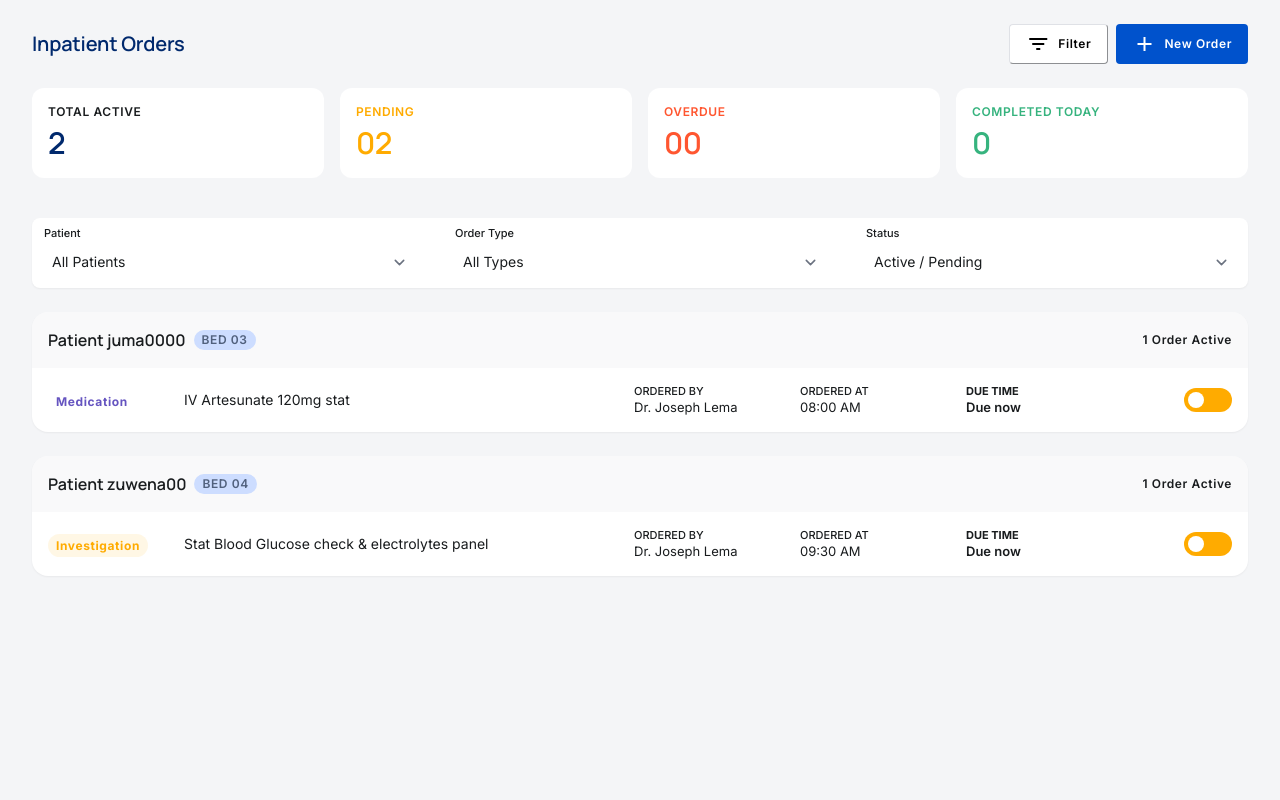
Test: InpatientOrdersPage › opens the issue order modal and successfully adds a new medication order
Check: the text "IV Artesunate 120mg stat" is shown, box [184, 391, 350, 408]
Click the button "New Order".
click(1182, 44)  # box [1116, 24, 1248, 64]
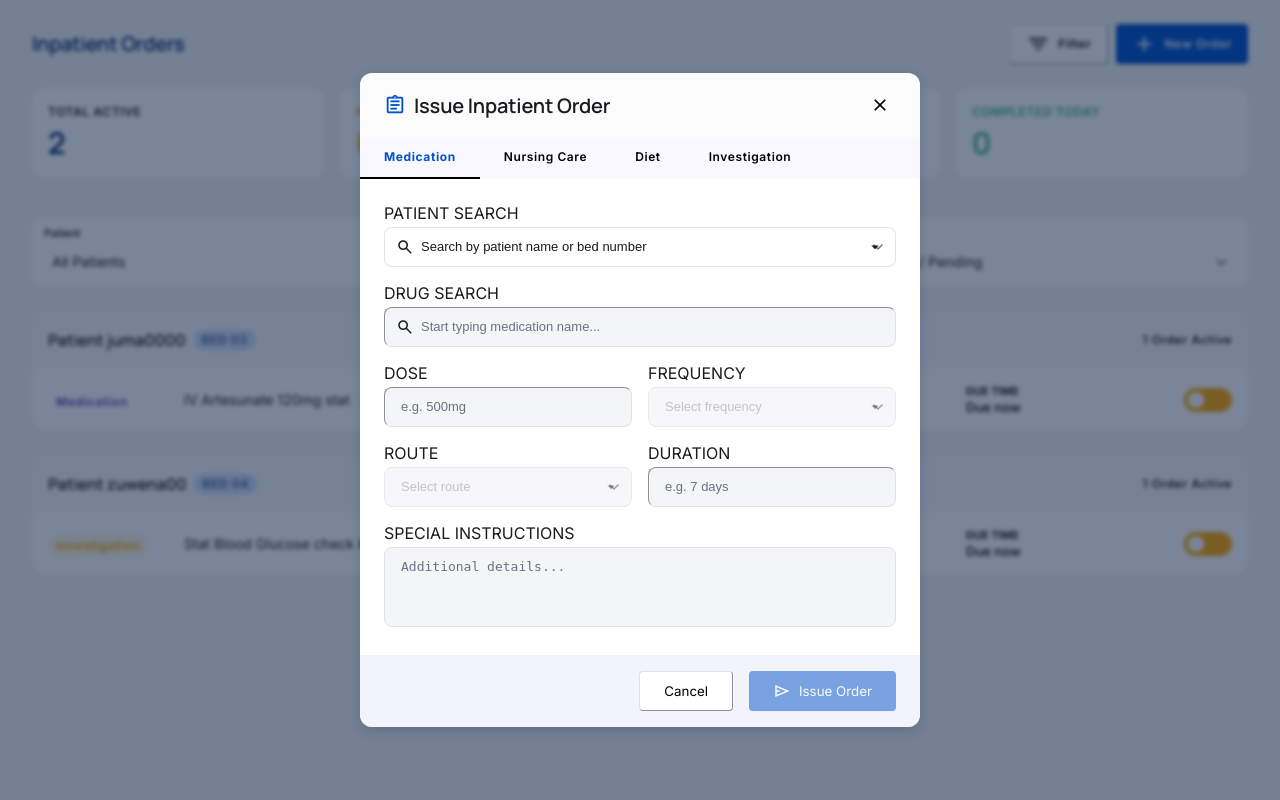
Check: the text "Issue Inpatient Order" is shown, box [414, 94, 610, 116]
Select "Patient juma0000 (Bed 03)" in the dropdown labelled "PATIENT SEARCH" at (640, 247), box [384, 227, 896, 267]
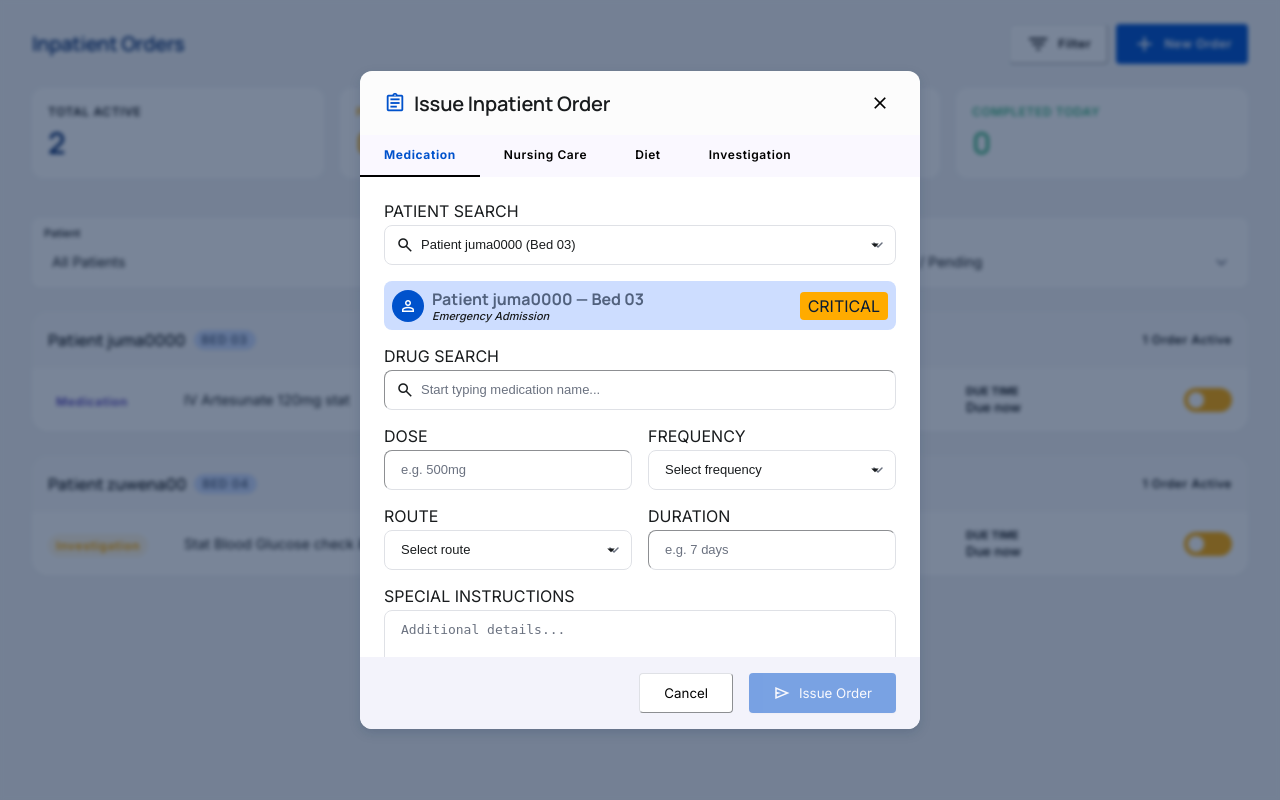
Type "Paracetamol" into the field labelled "DRUG SEARCH".
click(640, 390); type("Paracetamol")  # box [384, 370, 896, 410]
Type "500mg" into the field labelled "DOSE".
click(508, 470); type("500mg")  # box [384, 450, 632, 490]
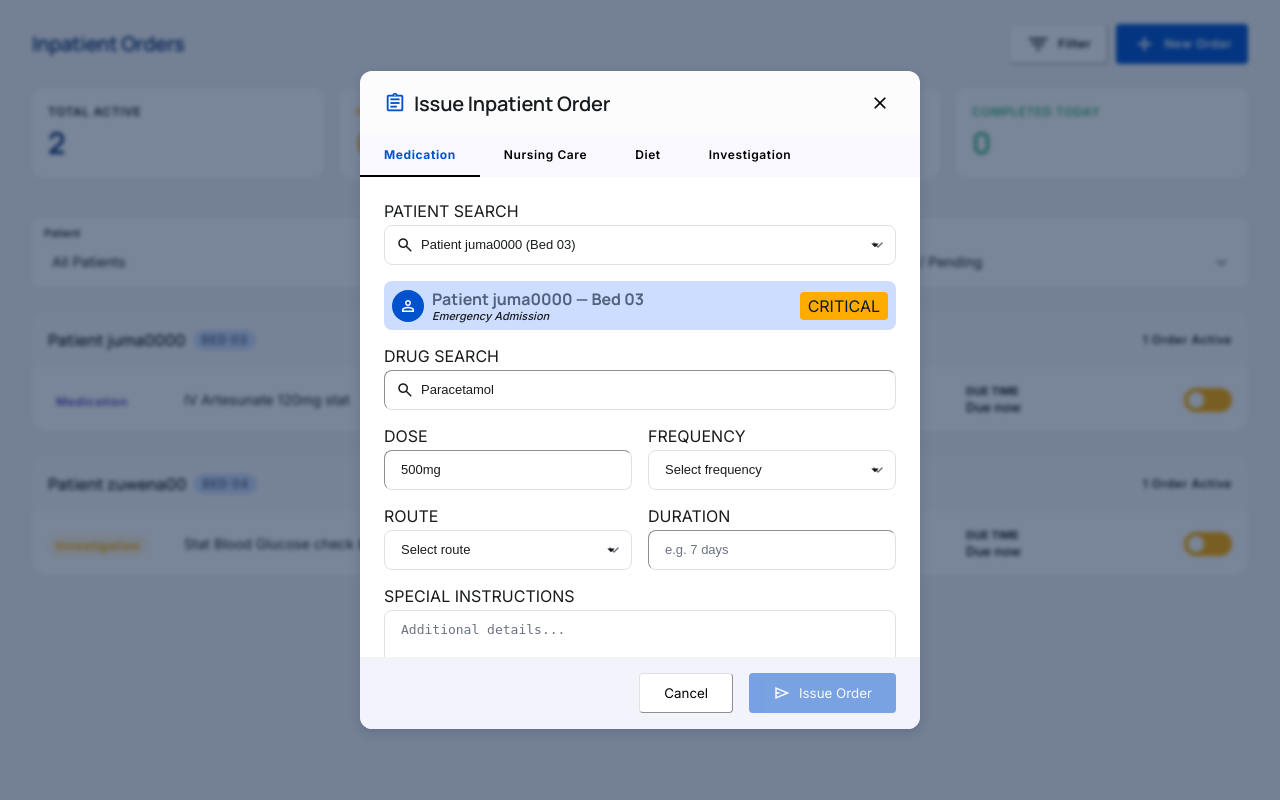
Select "Daily" in the dropdown labelled "FREQUENCY" at (772, 470), box [648, 450, 896, 490]
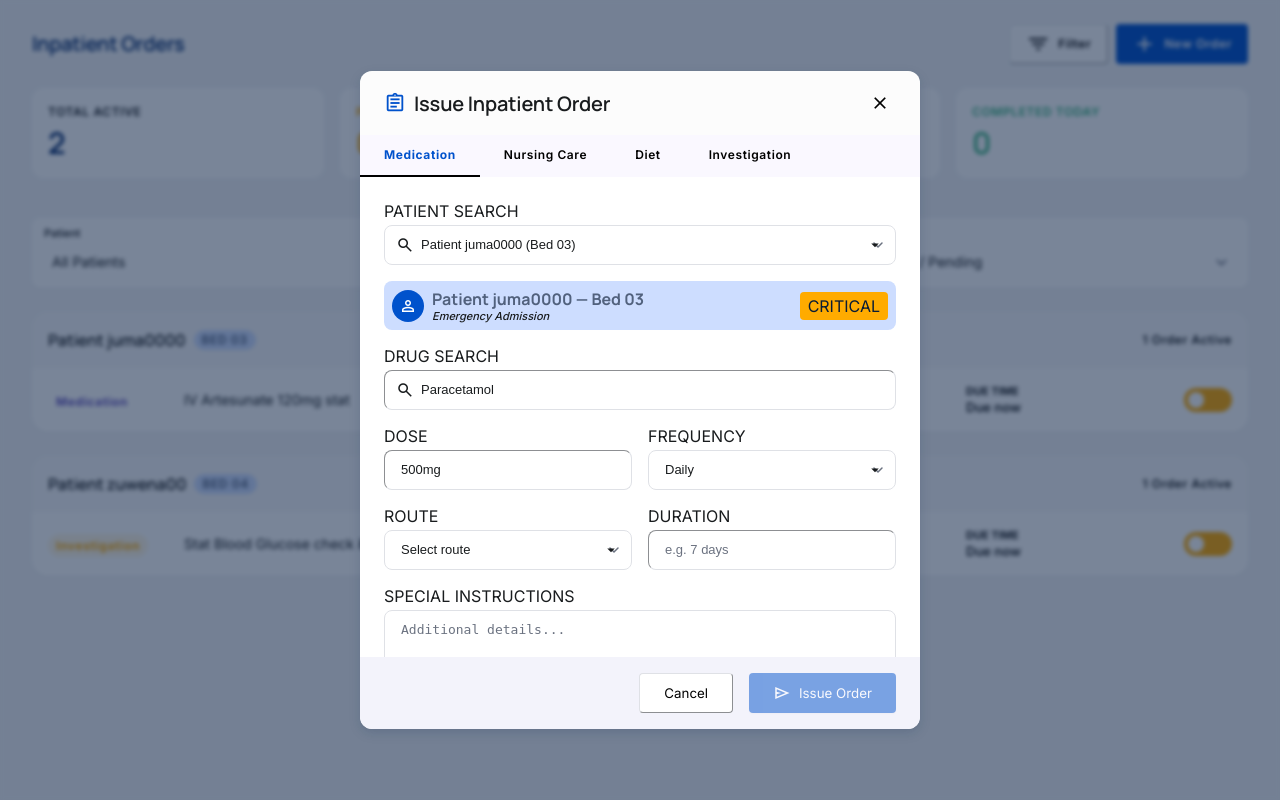
Select "PO (Oral)" in the dropdown labelled "ROUTE" at (508, 550), box [384, 530, 632, 570]
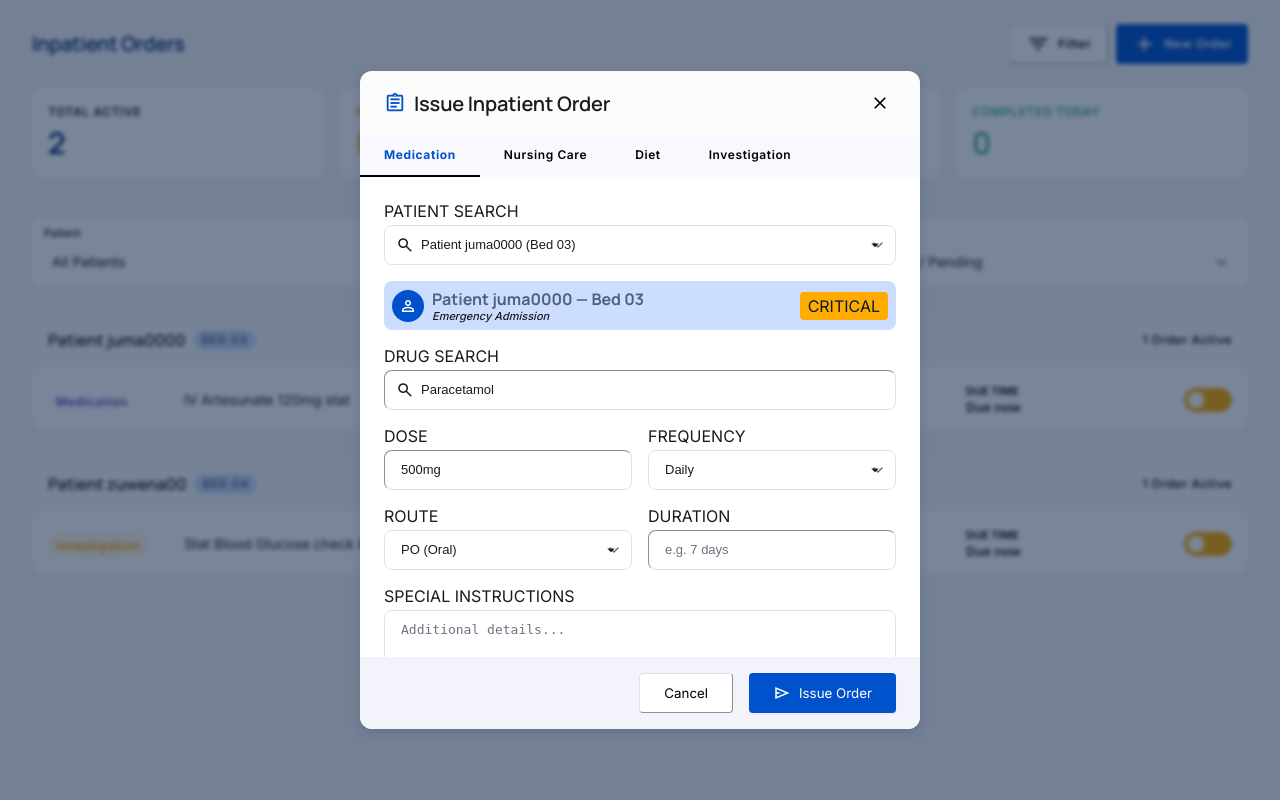
Click the button "Issue Order".
click(822, 693)  # box [749, 673, 896, 713]
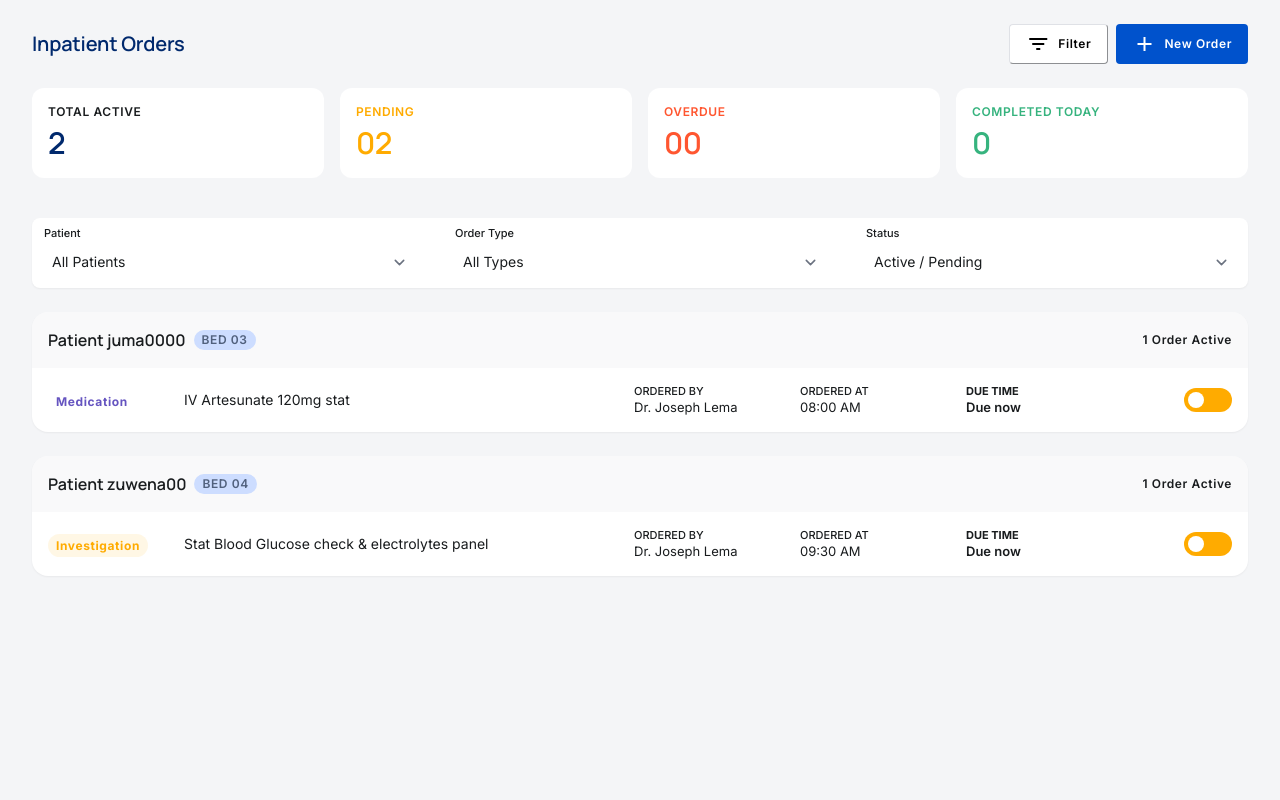
Check: the text "Issue Inpatient Order" is gone
